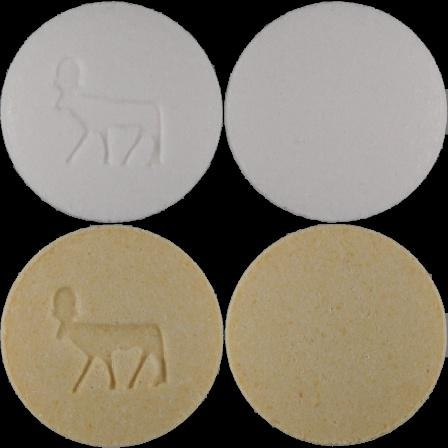0169-0081: (0, 0, 224, 224)
